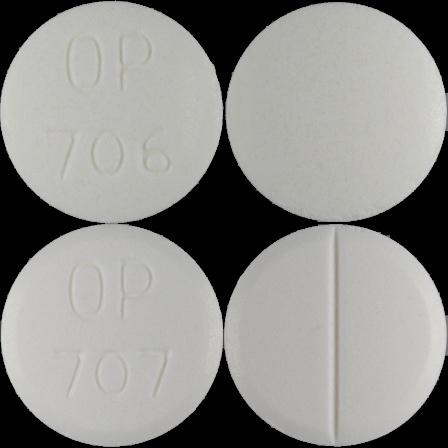0093-5035: (0, 0, 224, 224)
